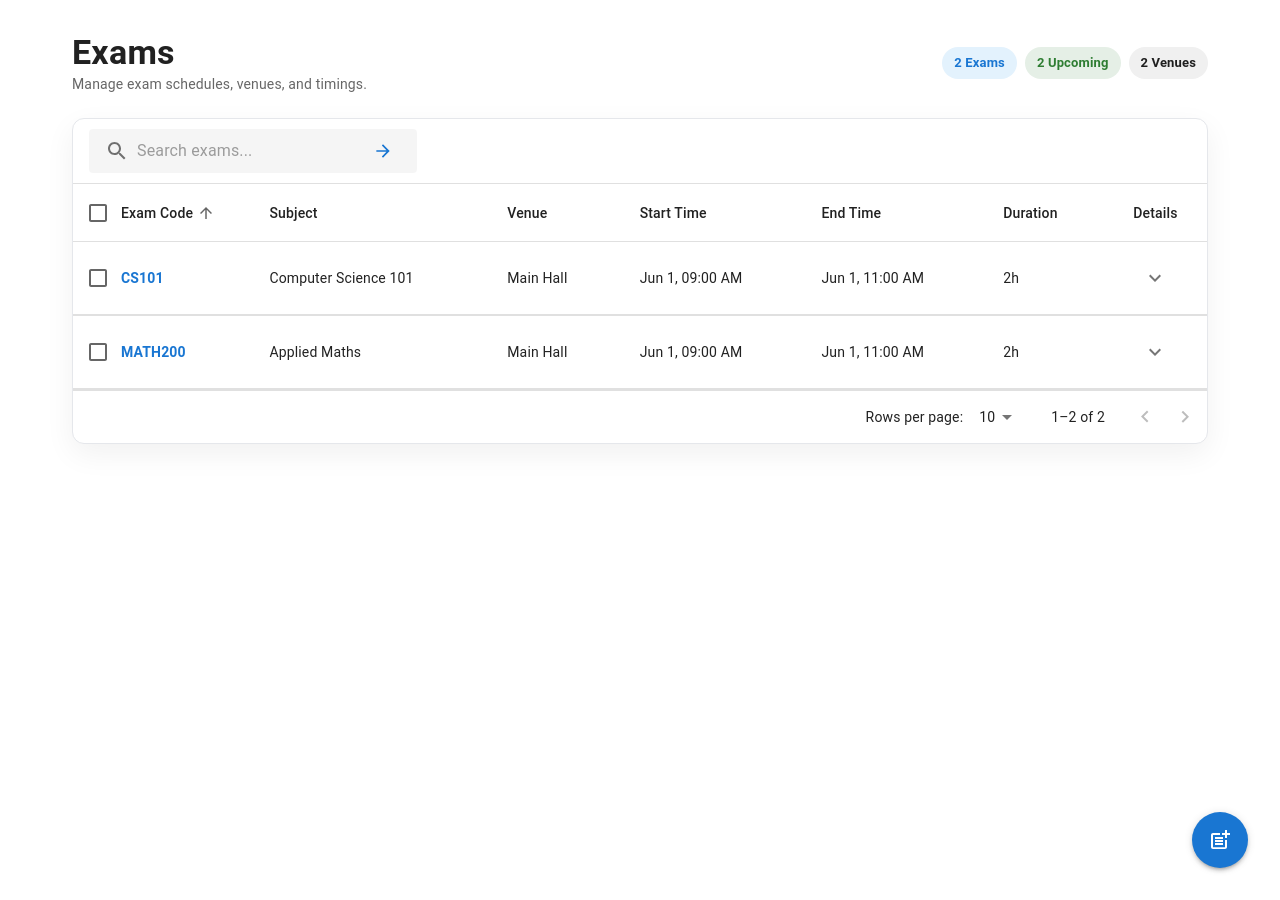
Test: AdminExams › filters exams using the search input
Expected: the link "CS101" is shown, [121,270,164,286]
Expected: the link "MATH200" is shown, [121,344,186,360]
Step 1. Type "MATH" into the field with placeholder "Search exams..." → (247, 151), box [137,135,357,167]
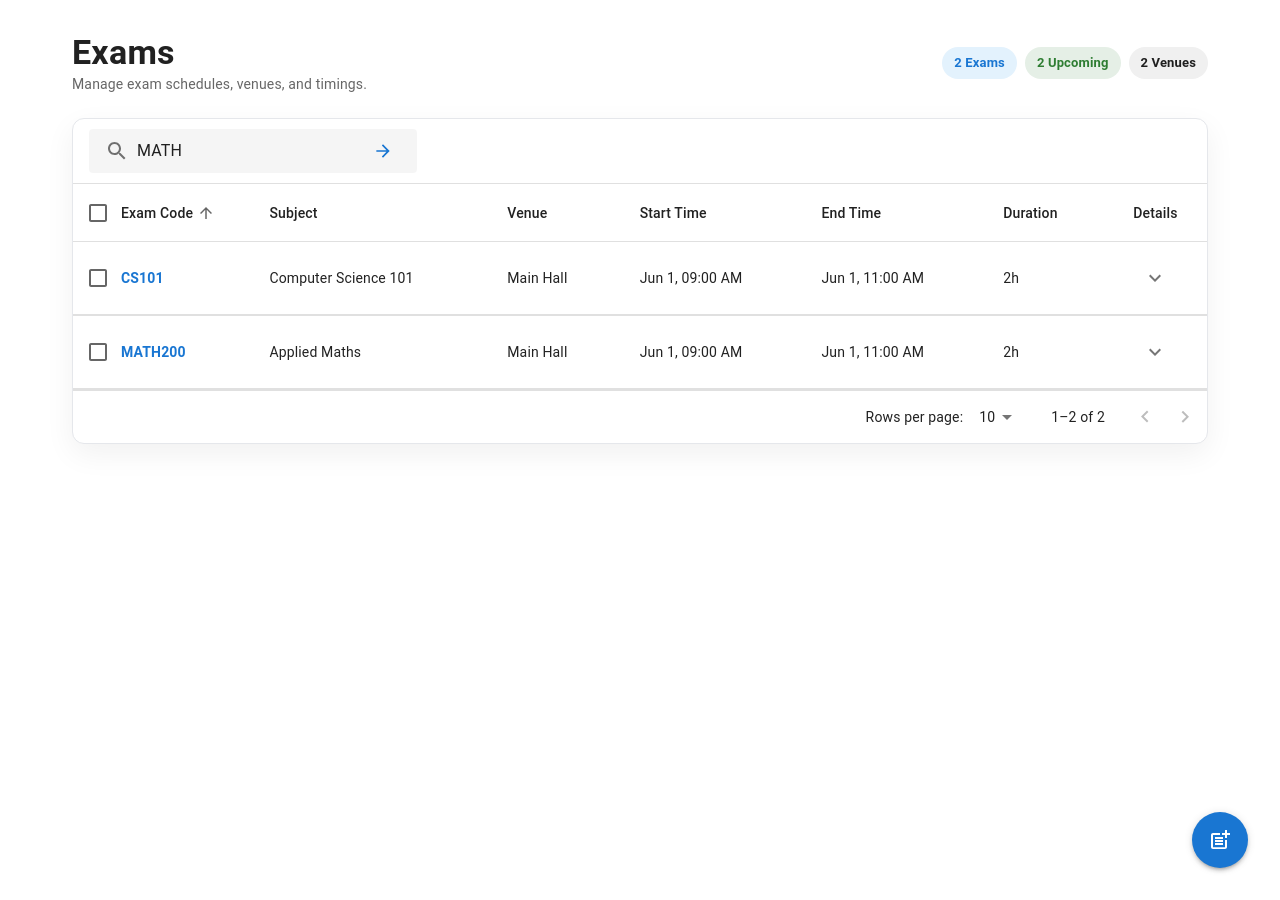
Step 2. Click the button named "apply search" → (383, 151), box [365,133,401,169]
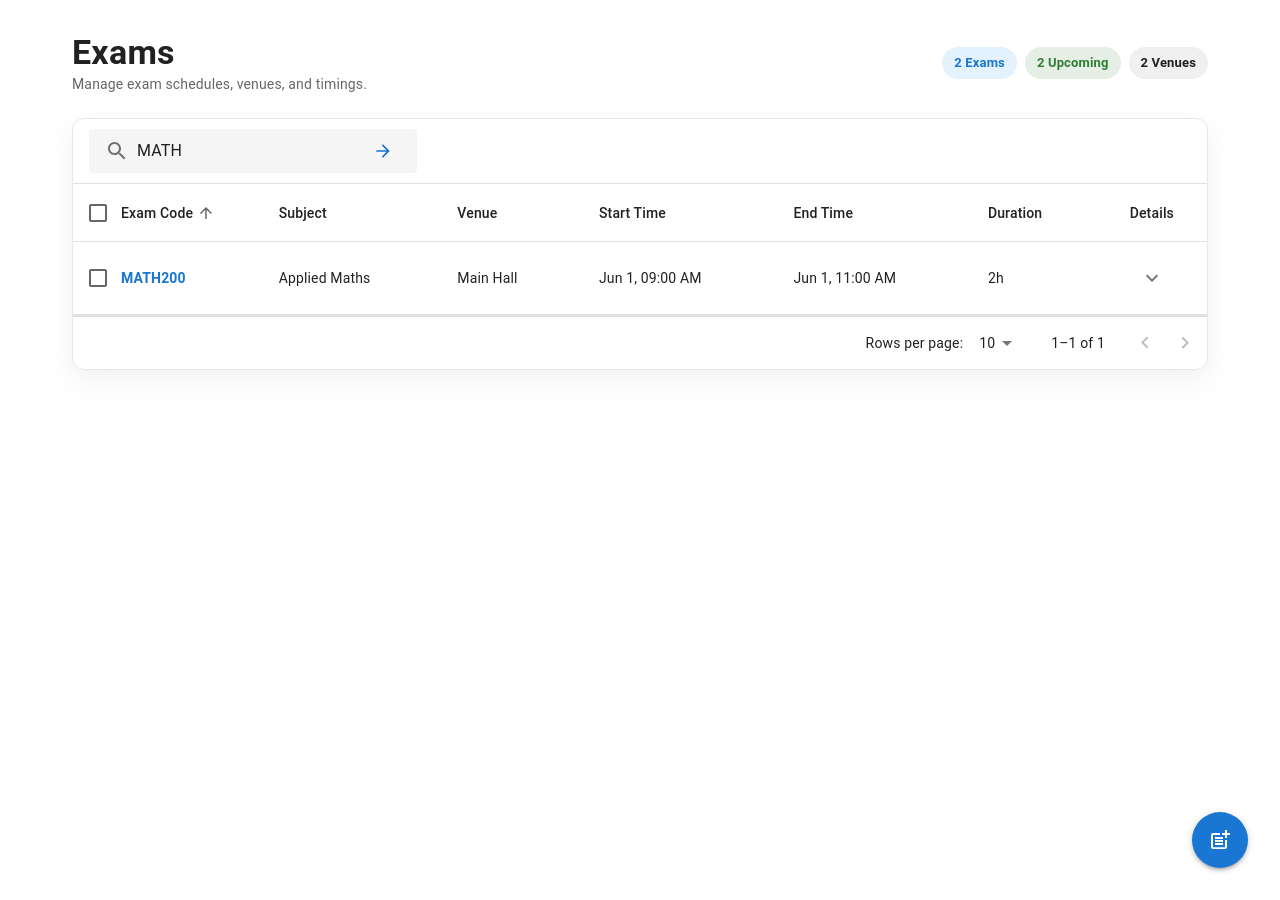
Expected: the link "MATH200" is shown, [121,270,186,286]
Expected: the link "CS101" is gone
